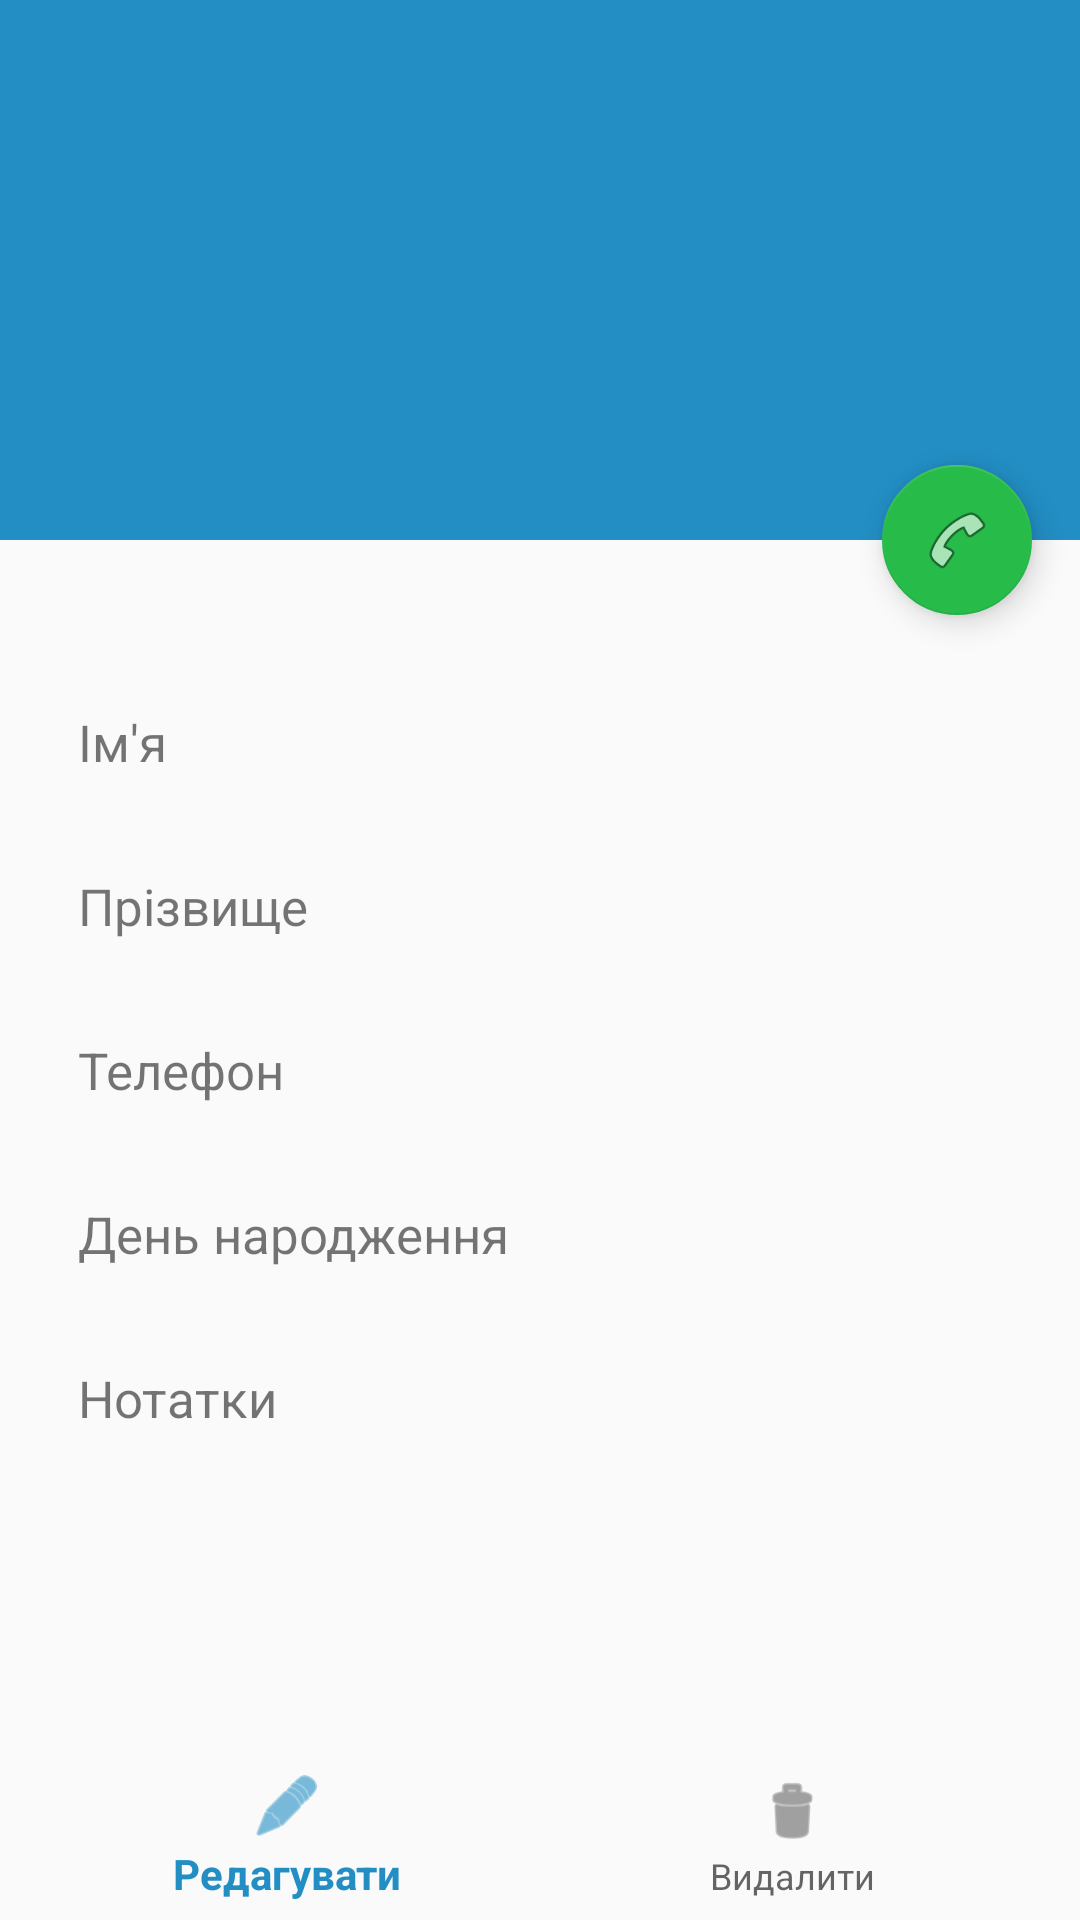

Icons on this 1080 x 1920 Android screen, each with the point to tap as [x,y]:
call: [957,540]
